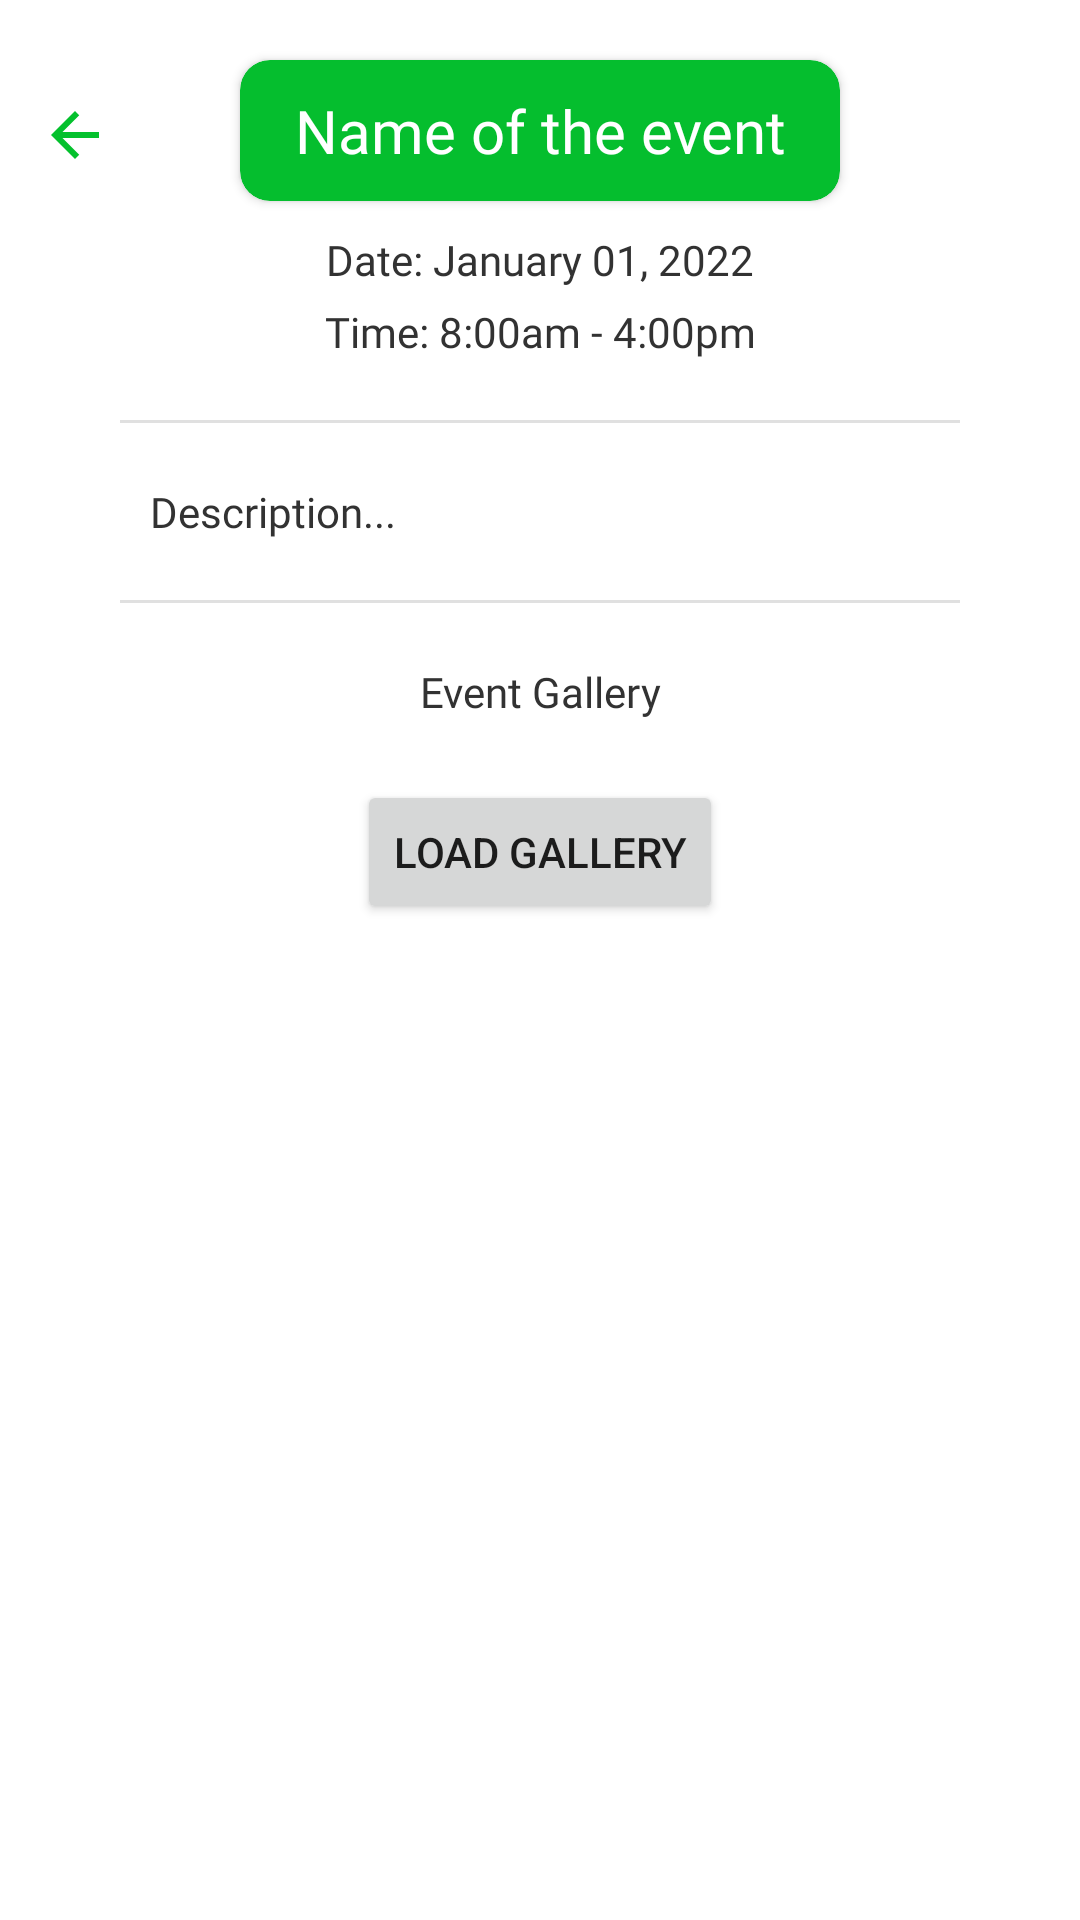

Where icons sit on this 1080px x 1920px app screen, as (x1, y1, x2, y2):
chat bot back: (51, 111, 99, 159)
